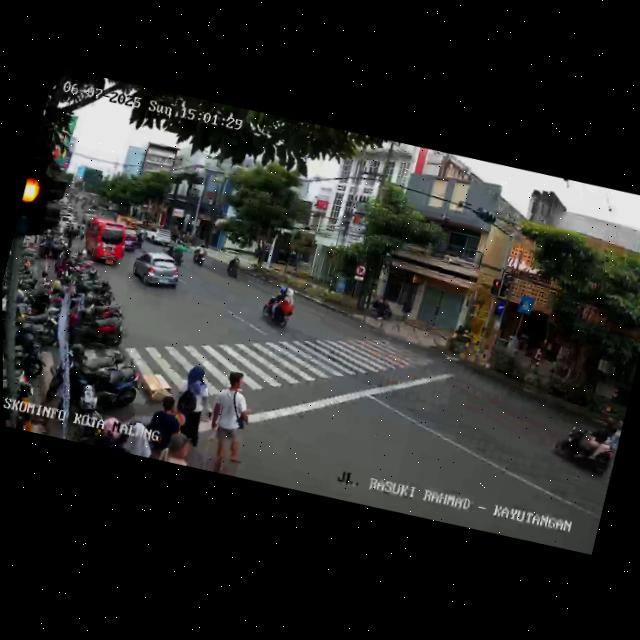car: (126, 246, 185, 298), (77, 214, 130, 270), (142, 228, 172, 251)
motorcycle: (547, 411, 622, 482), (260, 283, 299, 332), (222, 253, 243, 281), (189, 241, 210, 268), (168, 241, 189, 267)
person: (200, 369, 259, 476), (170, 360, 224, 453), (139, 393, 185, 463), (158, 428, 195, 466)
